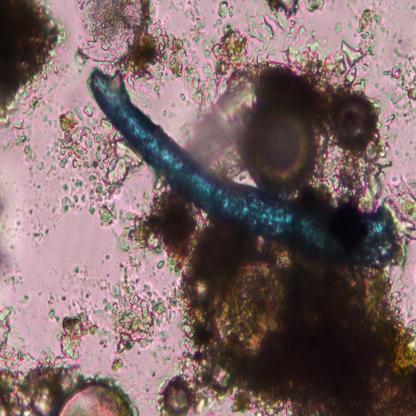Background material: (182, 218, 416, 414), (148, 1, 262, 180), (44, 104, 133, 227), (0, 304, 76, 414), (0, 0, 63, 130), (96, 268, 172, 374), (114, 189, 204, 274), (286, 9, 386, 79), (313, 141, 387, 217), (5, 127, 50, 237), (299, 68, 350, 141), (46, 300, 100, 366), (0, 187, 23, 287), (384, 43, 416, 113), (265, 1, 325, 34), (44, 262, 91, 302), (386, 179, 416, 241), (403, 1, 416, 22)
Diatom: (245, 96, 320, 194), (74, 1, 150, 61), (56, 381, 133, 415), (336, 95, 379, 150), (160, 380, 193, 416)
